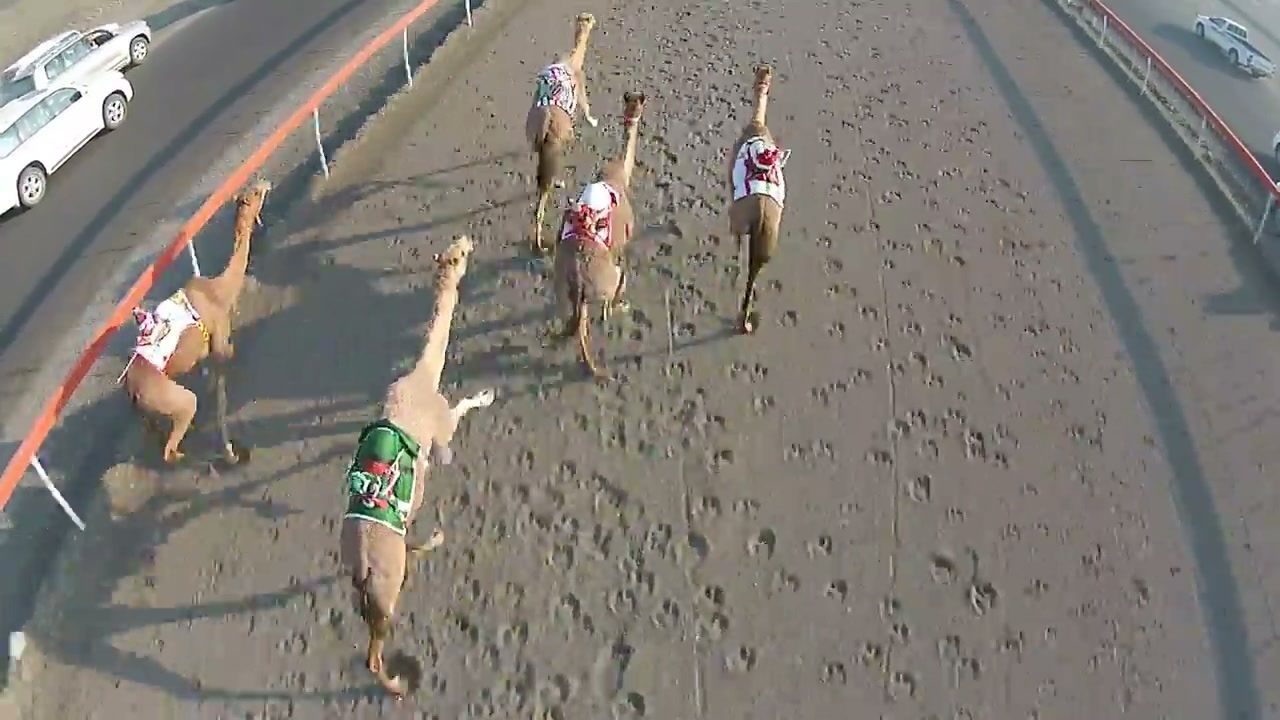animal_footprint: (809, 33, 1064, 693), (371, 307, 739, 719), (624, 18, 740, 307)
